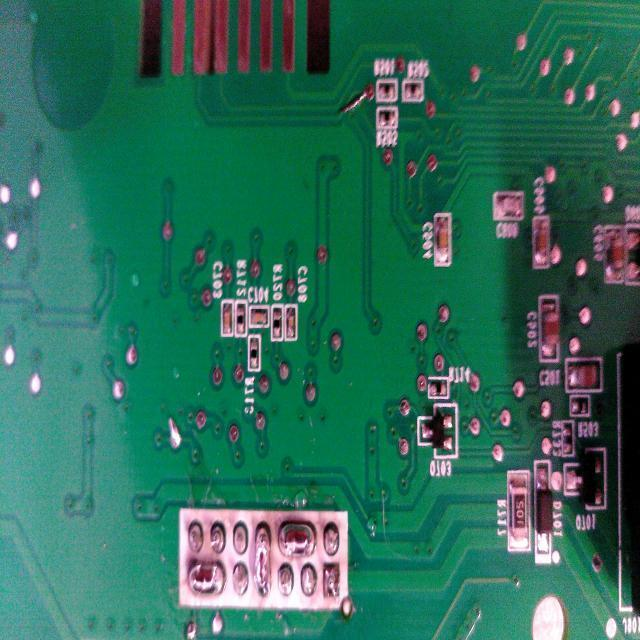Soldering shorted: (276, 511, 320, 564), (251, 520, 276, 600), (186, 556, 226, 602)
